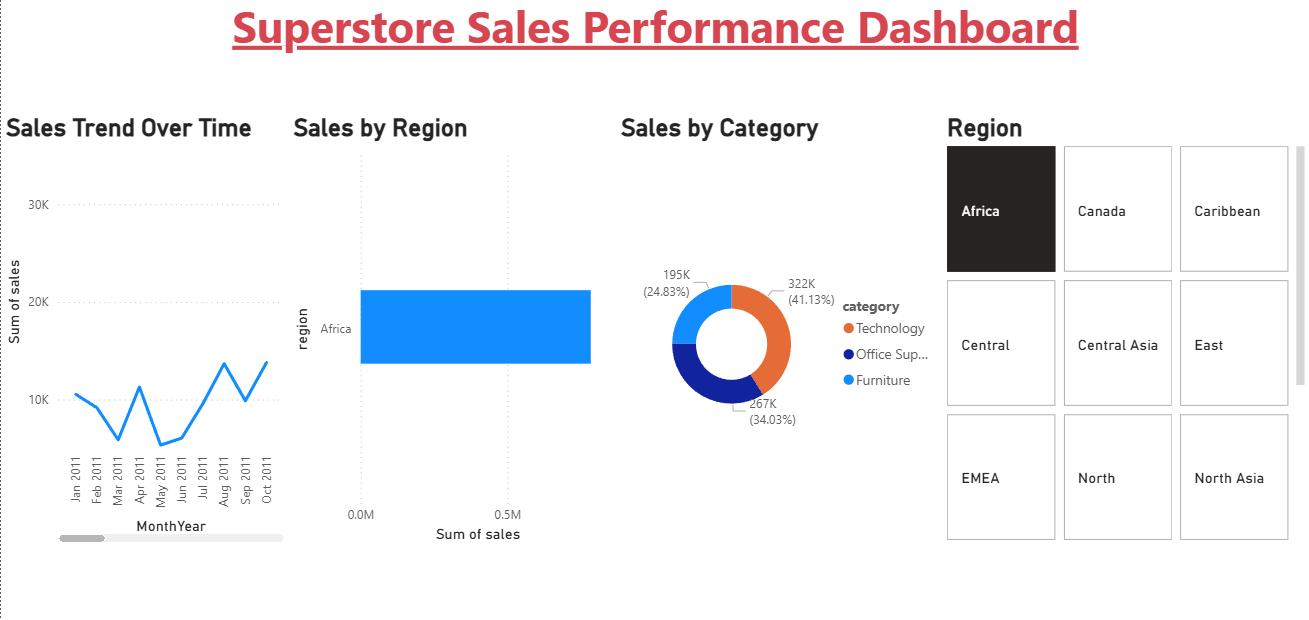

What the dashboard file says about the page in this screenshot:
{"tool":"powerbi","page":{"name":"Page 1","canvas":[1280,720],"ordinal":0},"visuals":[{"type":"lineChart","title":"Sales Trend Over Time","fields":{"Category":["superstore_sales.MonthYear"],"Y":["Sum(superstore_sales.sales)"]},"box":[0,178.8,281.6,424.6],"z":0},{"type":"clusteredBarChart","title":"Sales by Region","fields":{"Category":["superstore_sales.region"],"Y":["Sum(superstore_sales.sales)"]},"box":[281.6,178.8,319.6,424.6],"z":1000},{"type":"donutChart","title":"Sales by Category","fields":{"Category":["superstore_sales.category"],"Y":["Sum(superstore_sales.sales)"]},"box":[601.1,178.8,319.6,424.6],"z":2000},{"type":"advancedSlicerVisual","title":"Region","fields":{"Values":["superstore_sales.region"]},"box":[920.7,178.8,359.8,424.6],"z":3000},{"type":"textbox","box":[0,58.1,1280.5,120.7],"z":4000}]}

Visuals, with their boxes on the page's 1280x720 design canvas (x1, y1, x2, y2). These are canvas units, not pixel positions in the 1309x620 screenshot, which may show the page scaled, cropped or inside an application window:
"Sales Trend Over Time" lineChart: detection(0, 179, 282, 603)
"Sales by Region" clusteredBarChart: detection(282, 179, 601, 603)
"Sales by Category" donutChart: detection(601, 179, 921, 603)
"Region" advancedSlicerVisual: detection(921, 179, 1280, 603)
textbox: detection(0, 58, 1280, 179)
